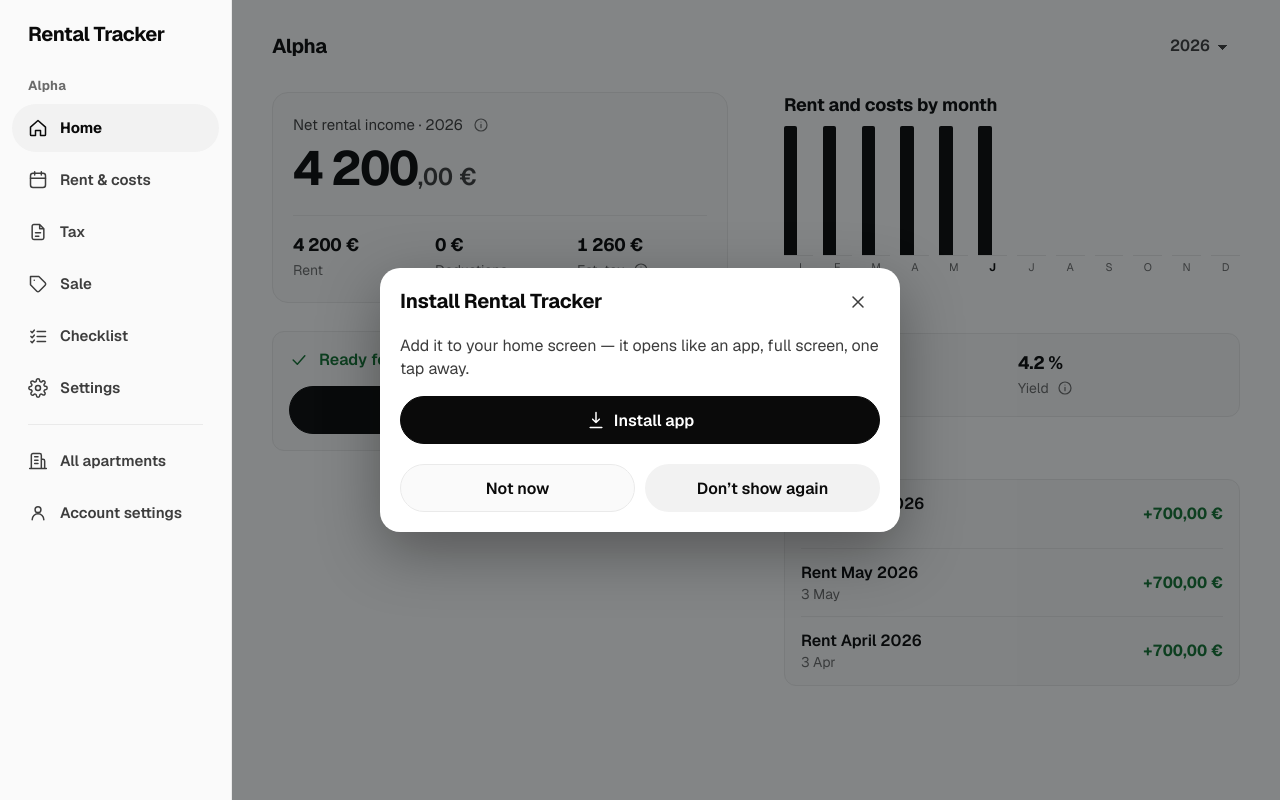
Scenario: the tax page › shows every checklist item, ticked when fine
Click the button "Tax". click: (116, 232)
box: [12,208,219,256]
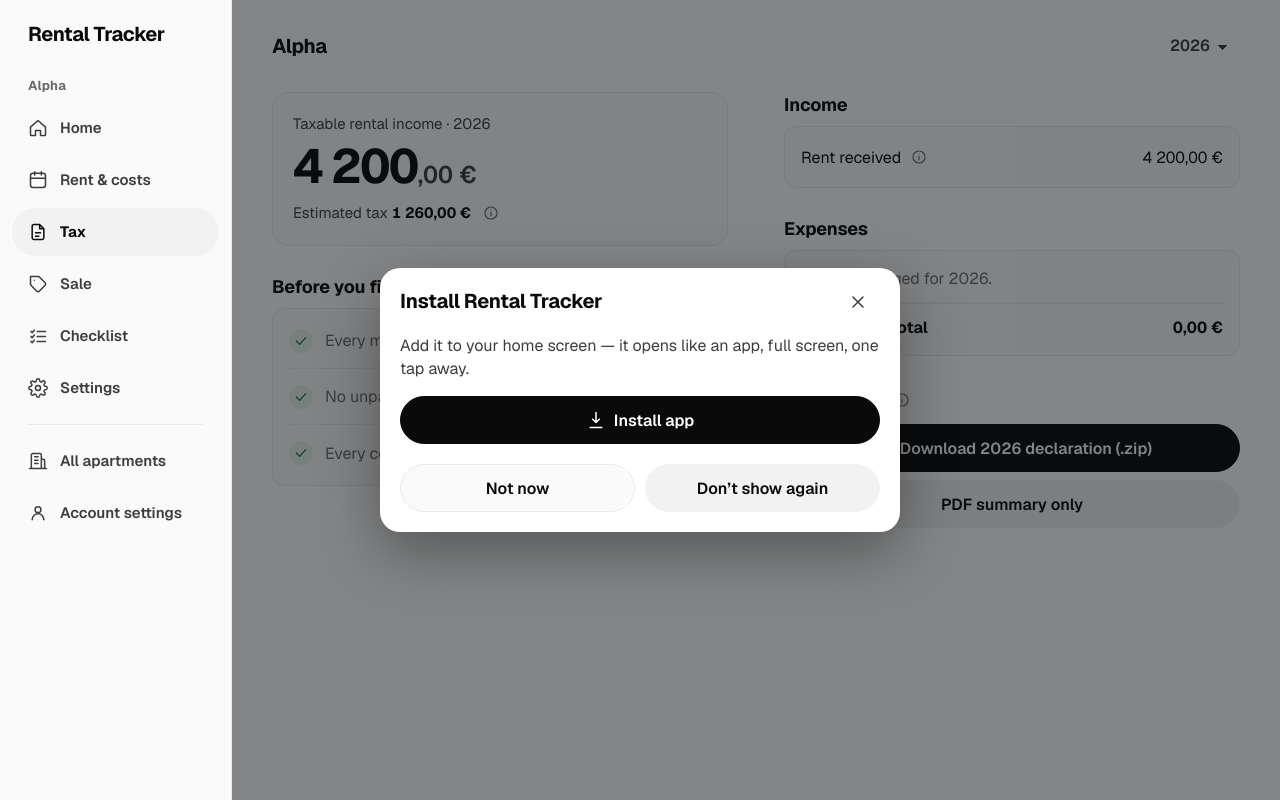
Result: the text "Every month logged" is shown at [325,330,471,351]
